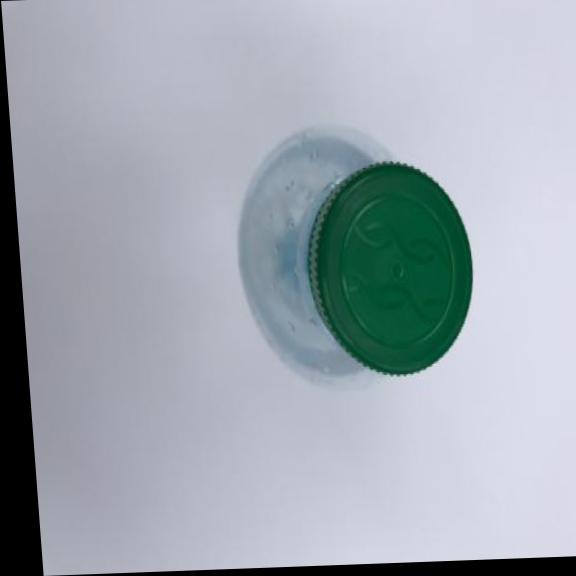Plastik: (224, 112, 490, 395)
